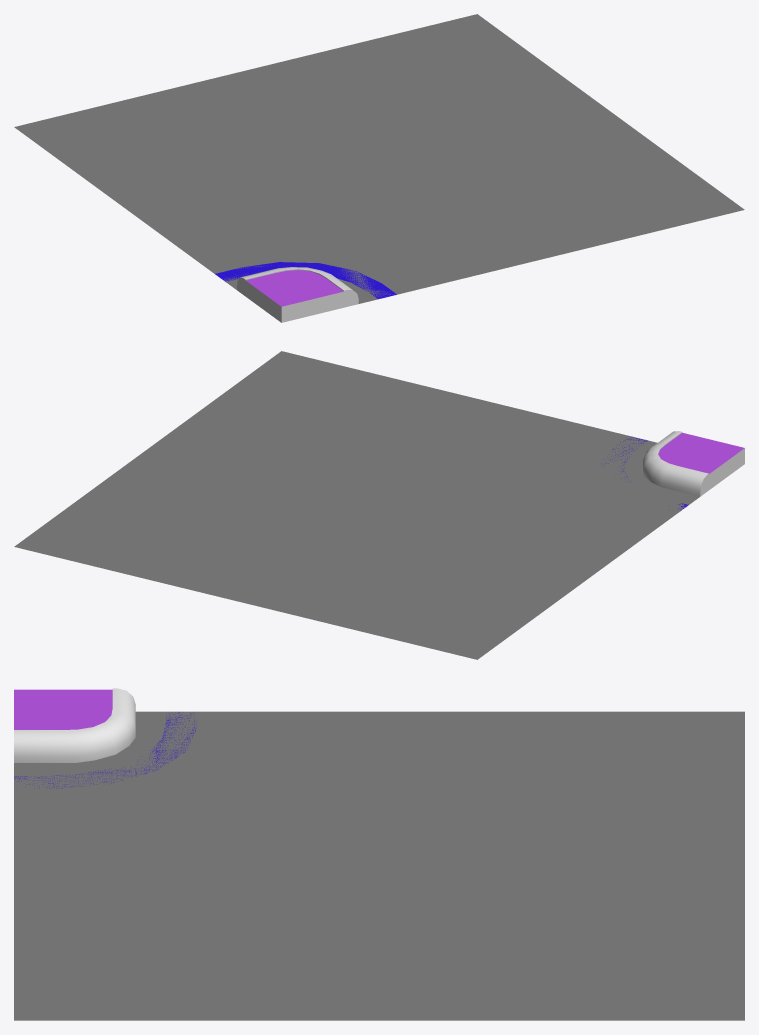
Rendered from Curve_one.fbx.
The picture shows the model from 3 angles, top to bottom: view 1: azimuth 30°, elevation 25°; view 2: azimuth 150°, elevation 25°; view 3: azimuth 270°, elevation 25°; orthographic projection. The views are drawn at different scales.
Parts seen in each view (by area): view 1: Curve_One; view 2: Curve_One; view 3: Curve_One.
Boxes of the visible parts, x1,y1,x2,y2 form: Curve_One: (14, 14, 744, 322); Curve_One: (14, 351, 744, 659); Curve_One: (14, 688, 744, 1020).
Size of the model in its own units: 200 by 7 by 200.
